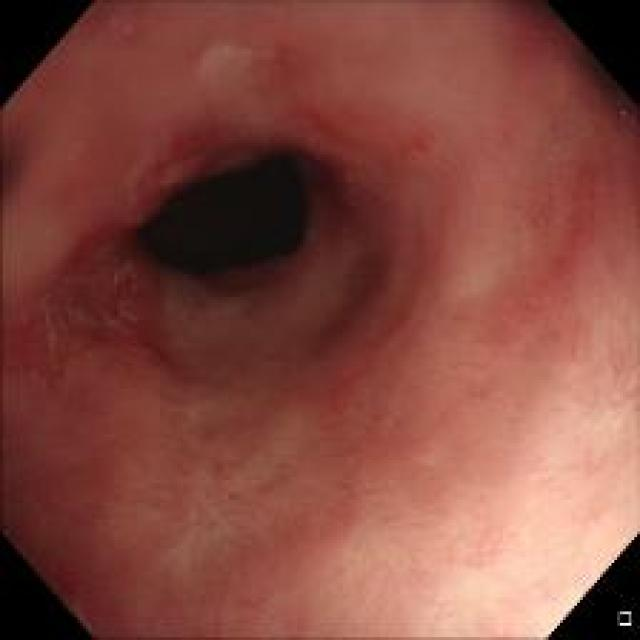contrast: (119, 138, 312, 294)
saturation: (471, 540, 626, 635)
